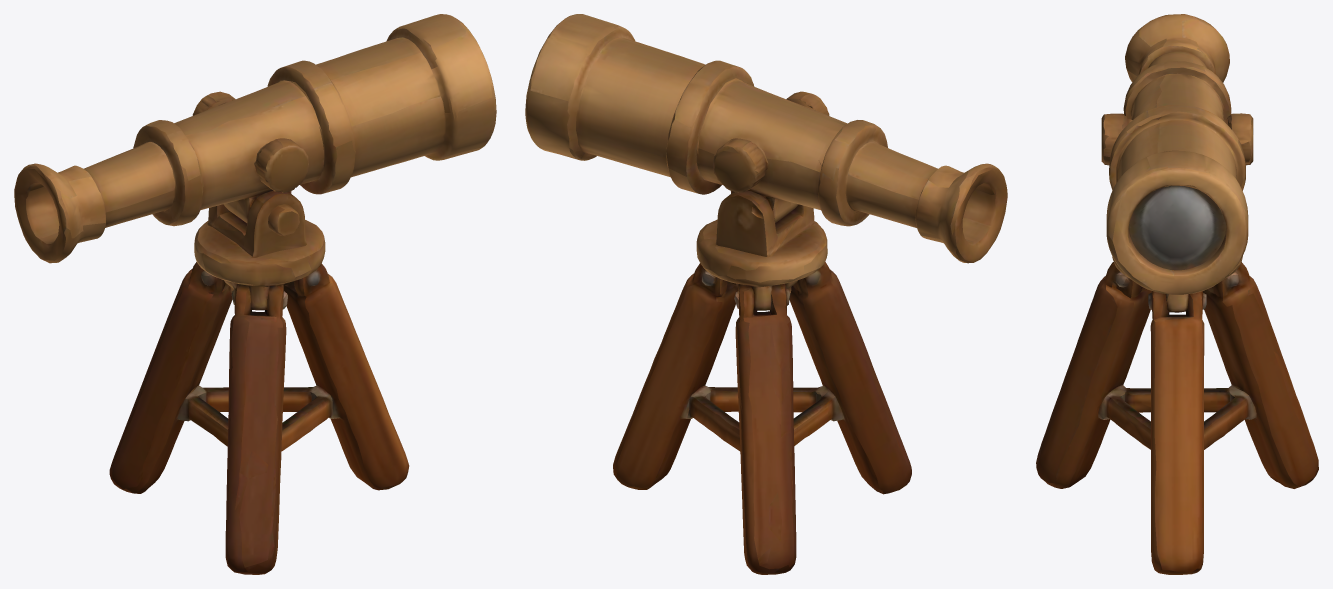
The model's file is x-telescope.glb.
3 renders of one model, left to right at view 1: azimuth 30°, elevation 25°; view 2: azimuth 150°, elevation 25°; view 3: azimuth 270°, elevation 25°, orthographic.
Parts seen in each view (by area): view 1: geometry_0; view 2: geometry_0; view 3: geometry_0.
Part boxes in pixels (x1,y1,x2,y2): geometry_0: (14,14,496,574); geometry_0: (525,14,1007,574); geometry_0: (1036,14,1318,574).
Size of the model in its own units: 0.32 by 0.32 by 0.1857.
Materials: 1 (1 with a texture image).
